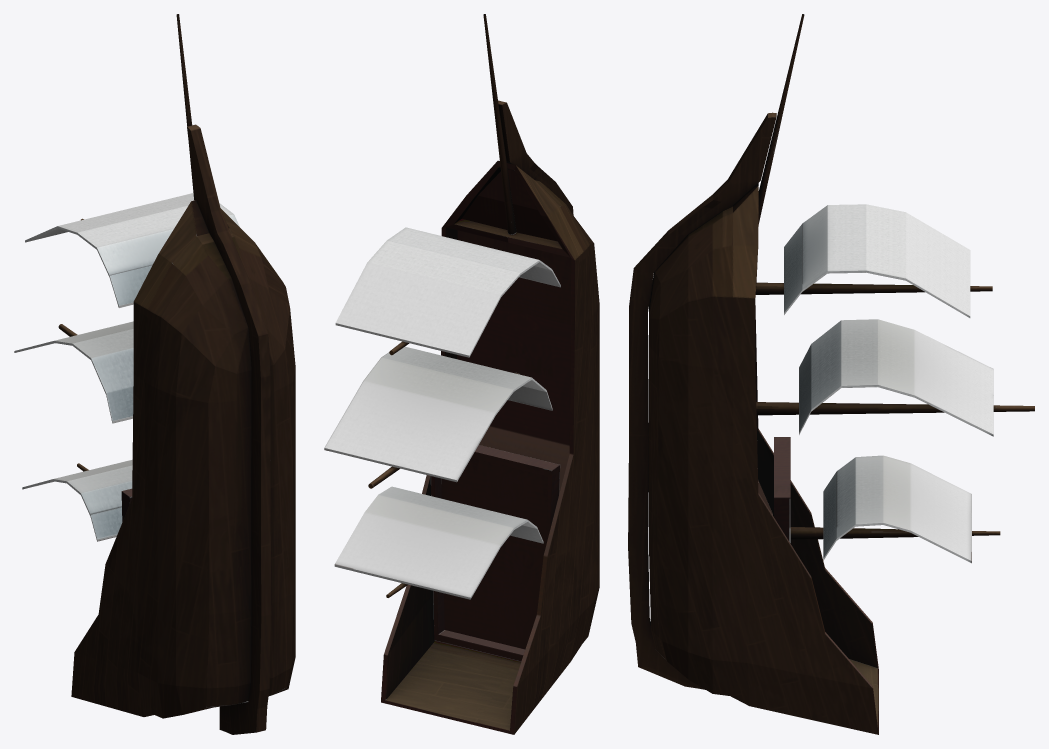
File: galleon_fixed.fbx
3 renders of one model, left to right at view 1: azimuth 30°, elevation 25°; view 2: azimuth 150°, elevation 25°; view 3: azimuth 270°, elevation 25°, orthographic. The views are drawn at different scales.
Visible parts, largest first — view 1: Cube; view 2: Cube; view 3: Cube.
Part boxes in pixels (x1,y1,x2,y2): Cube: (14, 14, 295, 734); Cube: (324, 14, 599, 734); Cube: (628, 14, 1034, 734).
Bounding box in the file's own units: 247 × 1177 × 631.
Materials: 1 (1 with a texture image).
